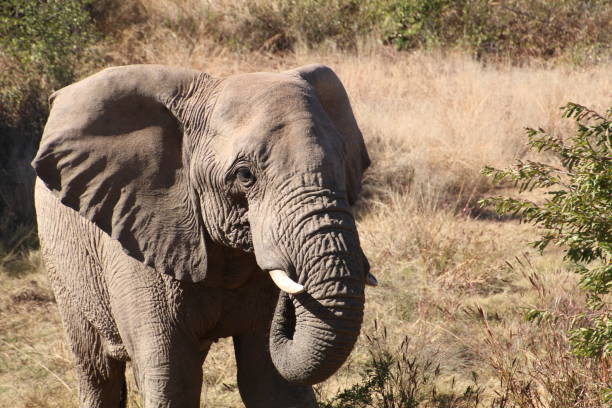africanelephant: (173, 67, 376, 351)
